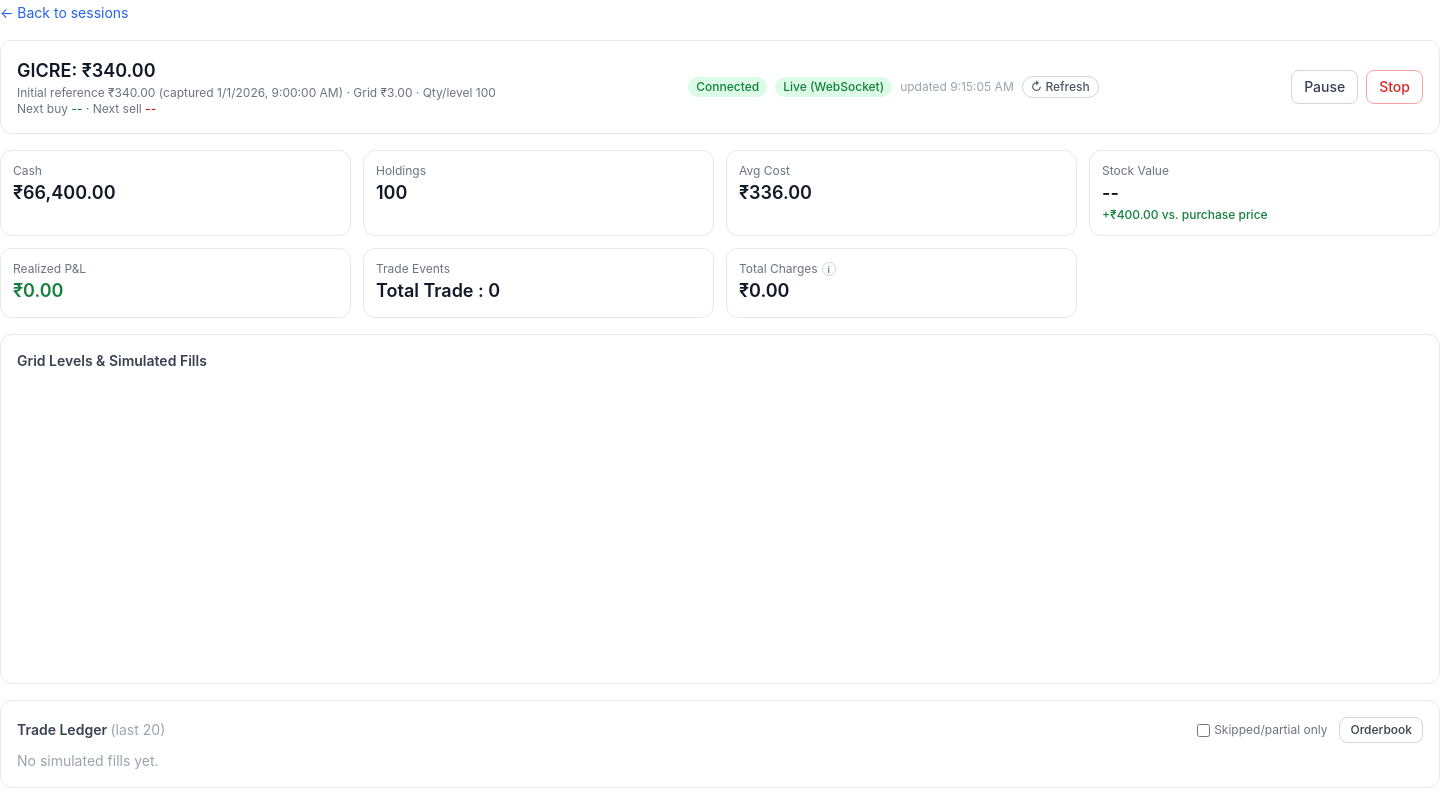
GridSimulatorDetail › clicking Orderbook opens a modal that fetches and shows the FULL trade history, looping pages beyond the main page's limit
Check: the heading "GICRE: ₹340.00" is shown, box [17,60,156,81]
Click the button "Orderbook": x=1381, y=730 [1340,717,1423,743]
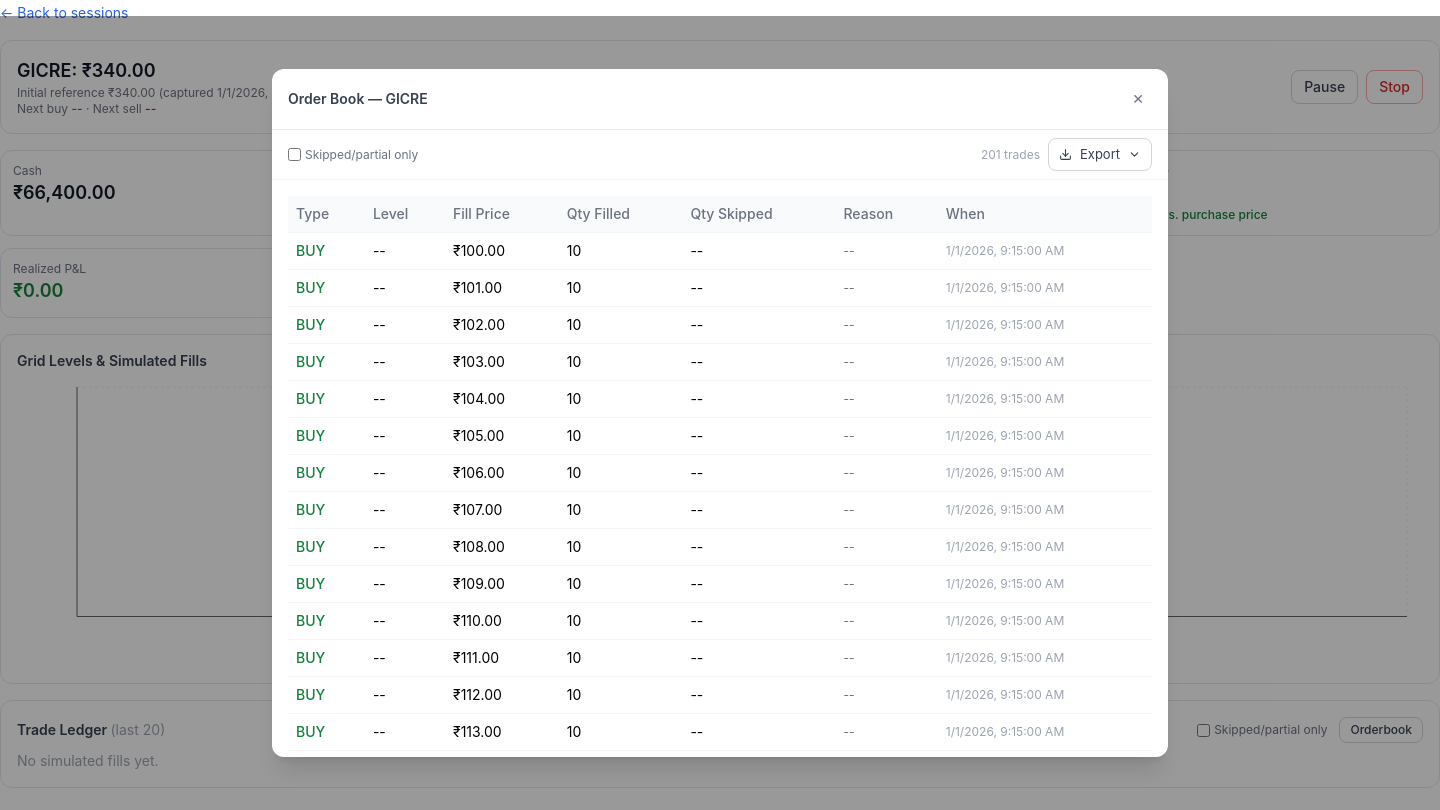
Check: the text "201 trades" is shown, box [981,146,1040,162]
